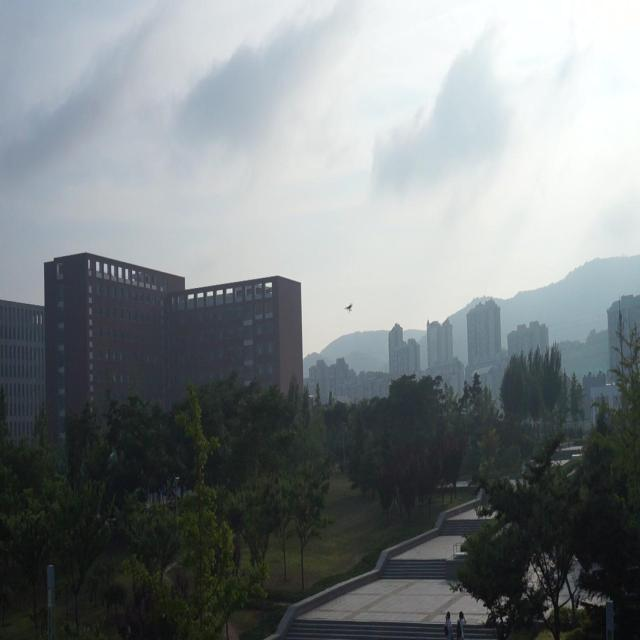drone: (342, 298, 353, 317)
